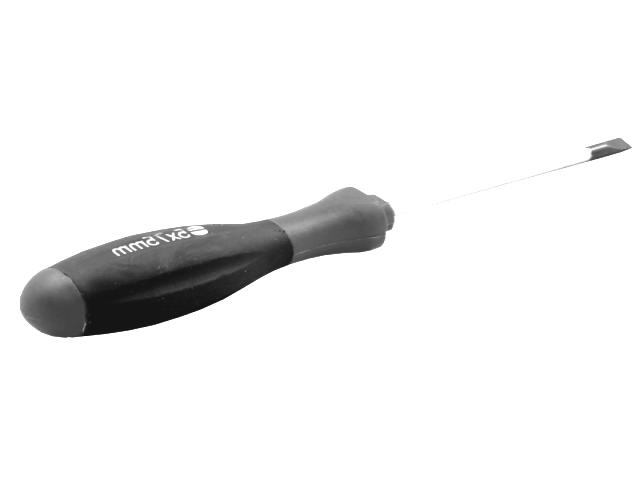Screwdriver: (20, 138, 631, 337)
